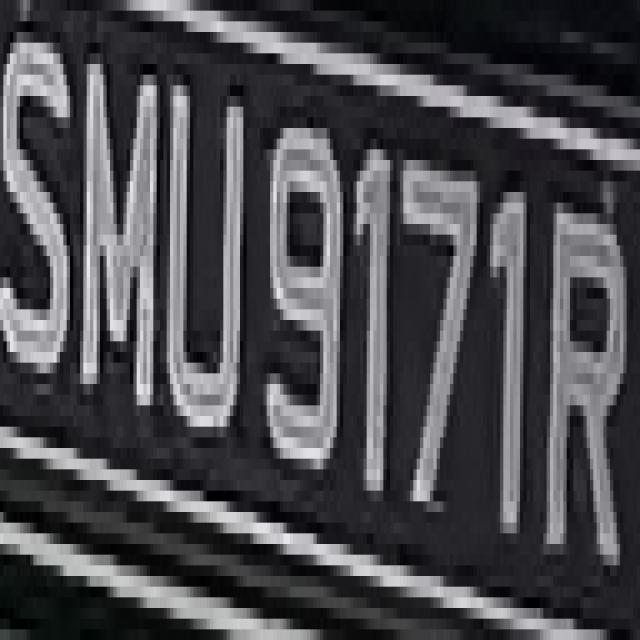1: (340, 106, 397, 522), (480, 149, 533, 576)
7: (390, 106, 470, 554)
9: (250, 96, 343, 501)
M: (74, 64, 164, 459)
R: (534, 181, 624, 619)
S: (7, 21, 83, 427)
U: (166, 64, 246, 459)
